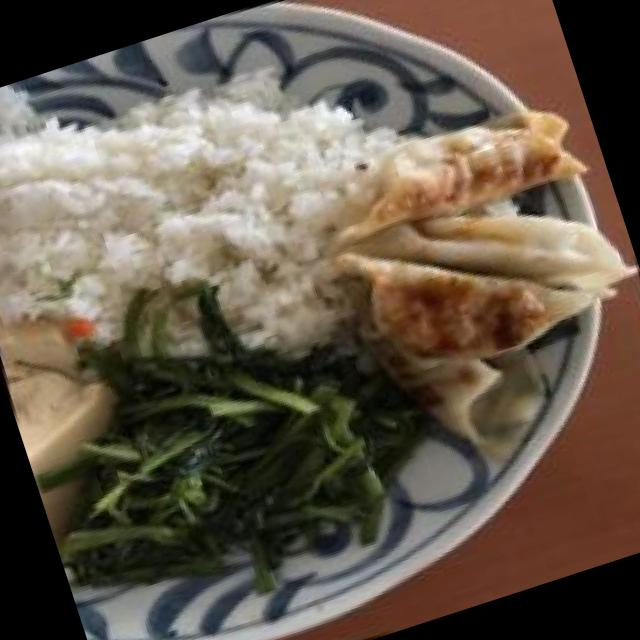fried_dumplings: (320, 97, 634, 440)
rice: (0, 60, 343, 393)
water_spinach: (101, 311, 384, 571)
